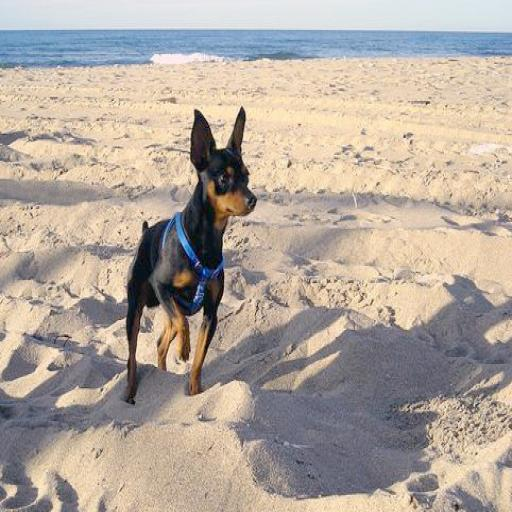dog_face: (186, 101, 267, 233)
